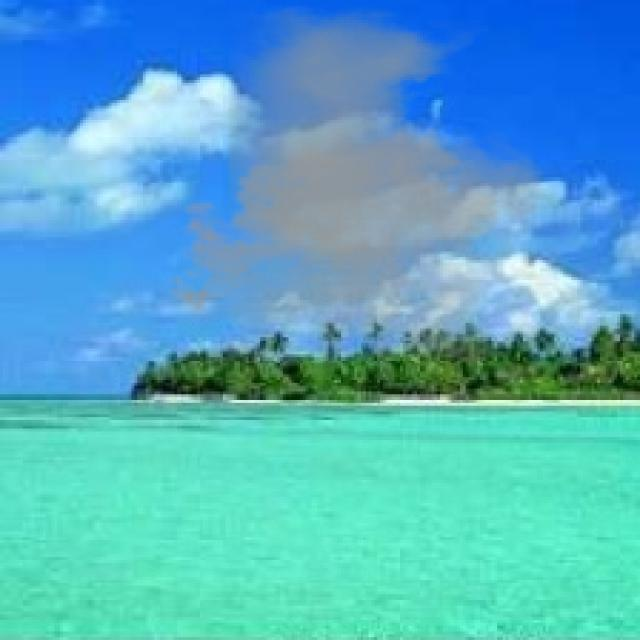Smoke: (157, 6, 560, 363)
